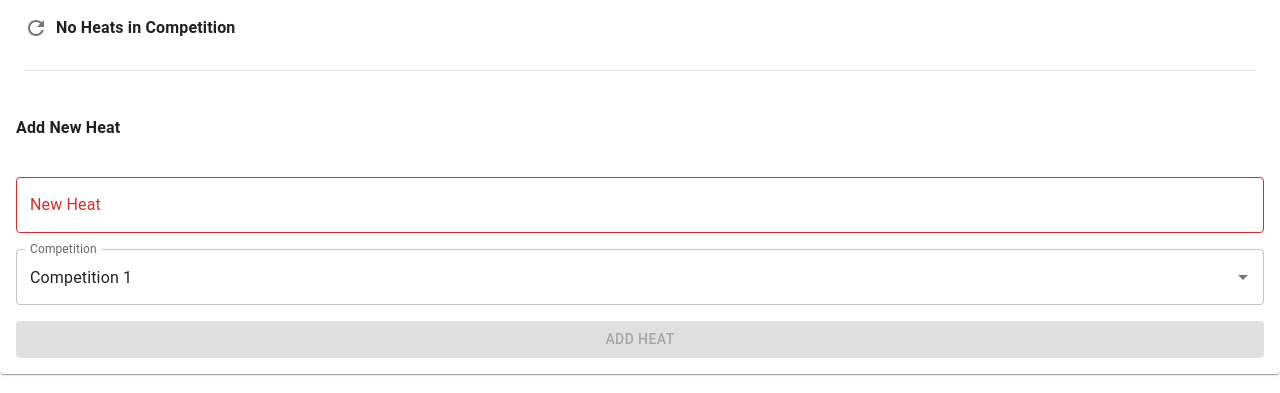
it: HeatSelector › shows no heats message and add heat form when competition has no heats
Expected: the heading "No Heats in Competition" is shown, top-left (56, 16), bottom-right (236, 40)
Expected: the heading "Add New Heat" is shown, top-left (16, 118), bottom-right (120, 137)
Note: Trigger the change event directly
In the field labelled "New Heat": [640, 205] box top-left (16, 177), bottom-right (1264, 233), type "Test Heat"
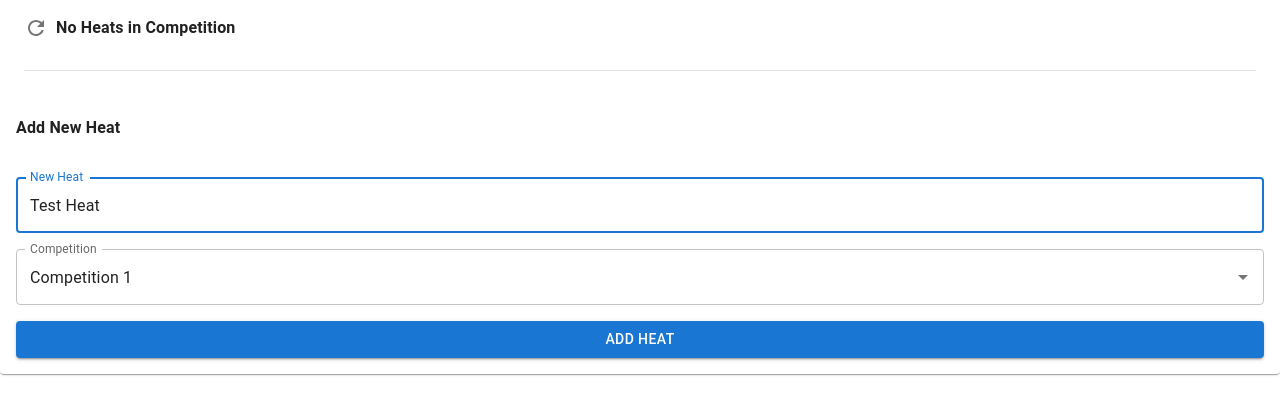
Expected: the button with test id "add-heat-button" is enabled, top-left (16, 321), bottom-right (1264, 358)
